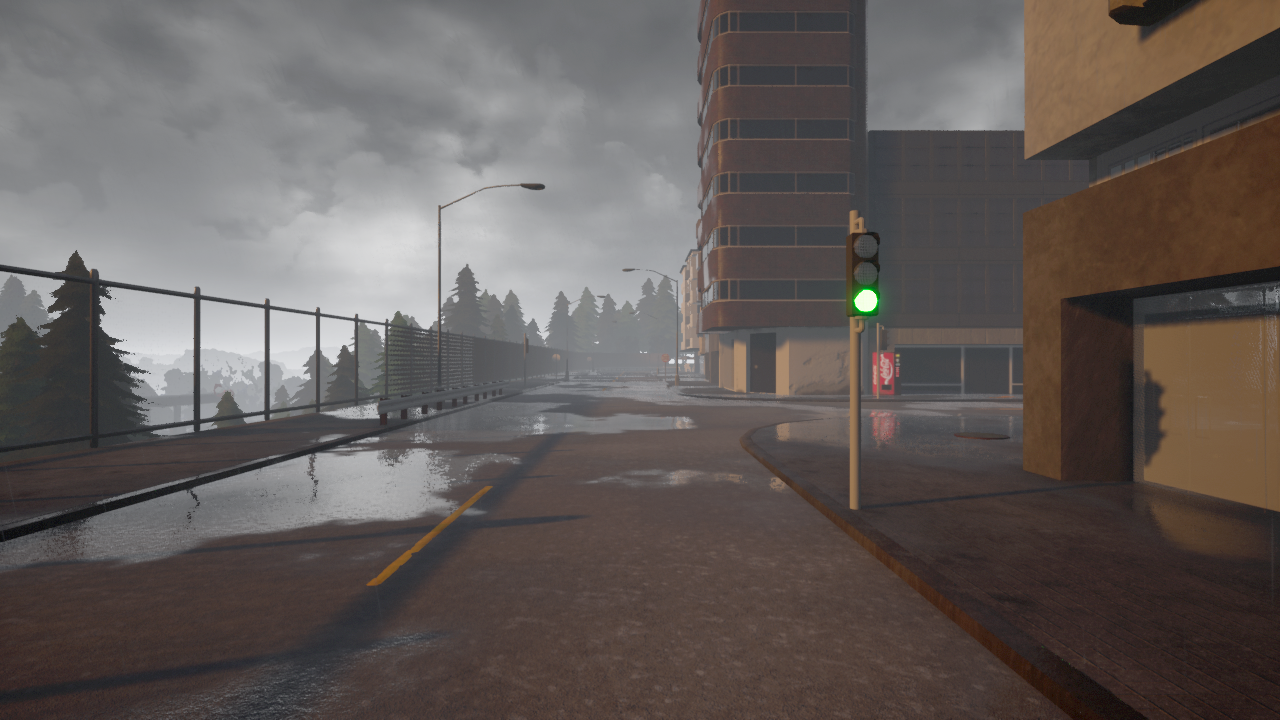green: (843, 230, 880, 321)
